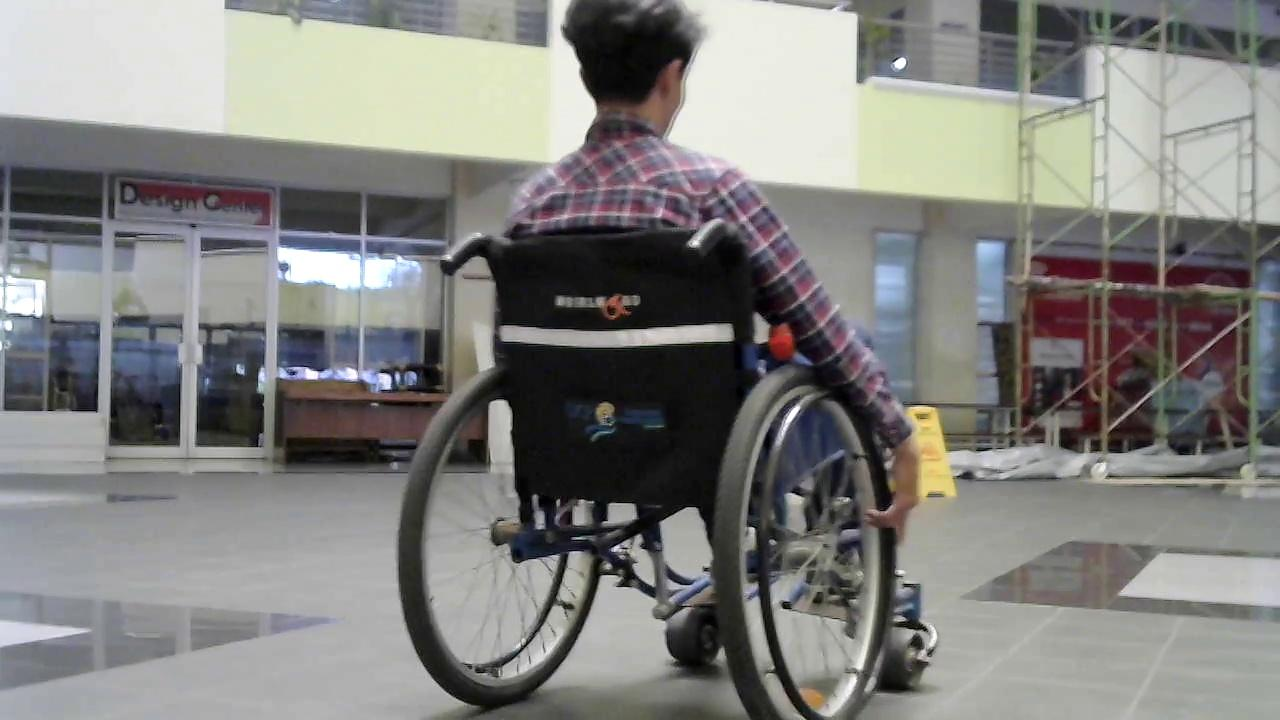person: (410, 2, 921, 713)
wheelchair: (375, 211, 944, 719)
